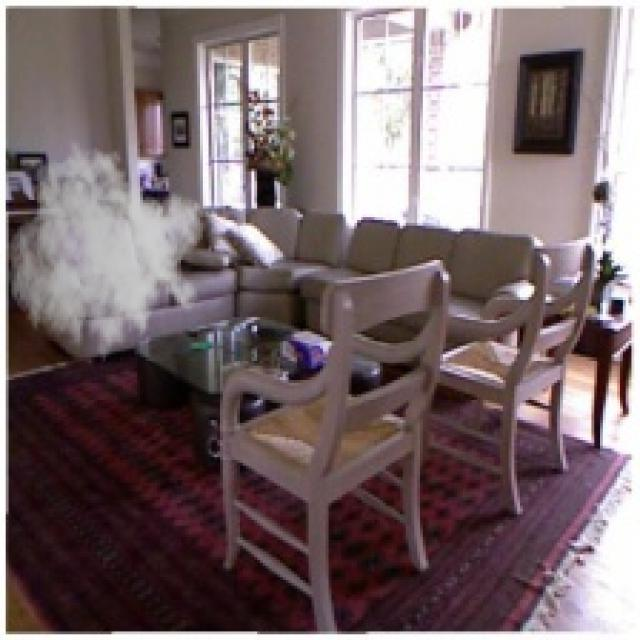smoke: (6, 140, 206, 374)
